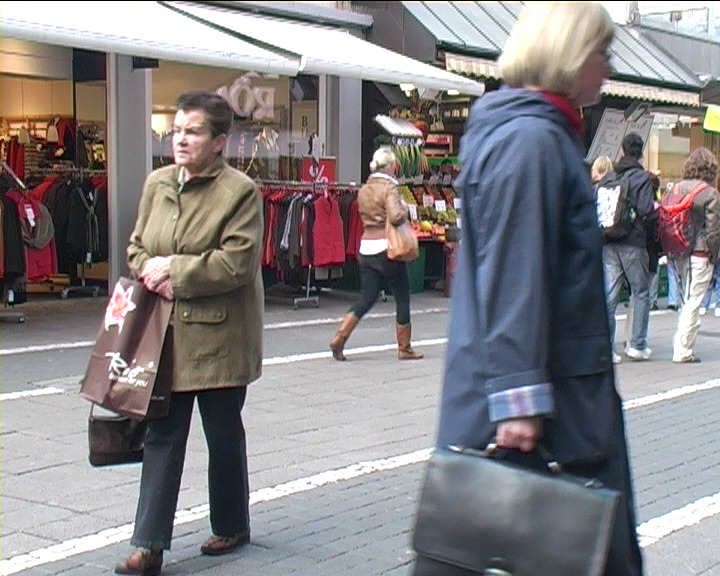undeflect: (140, 99, 263, 233)
